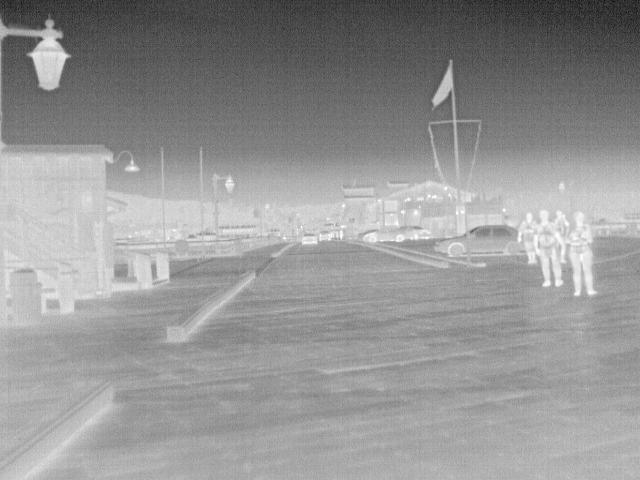car: (433, 222, 528, 260), (361, 225, 413, 245), (405, 225, 434, 240), (300, 230, 318, 246), (318, 229, 333, 242)
person: (565, 210, 597, 296), (535, 208, 563, 287), (517, 210, 538, 266), (551, 208, 571, 242)
